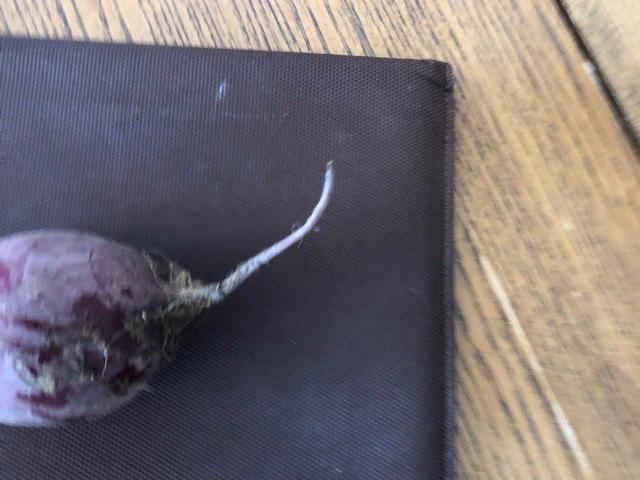beet: (2, 163, 334, 426)
